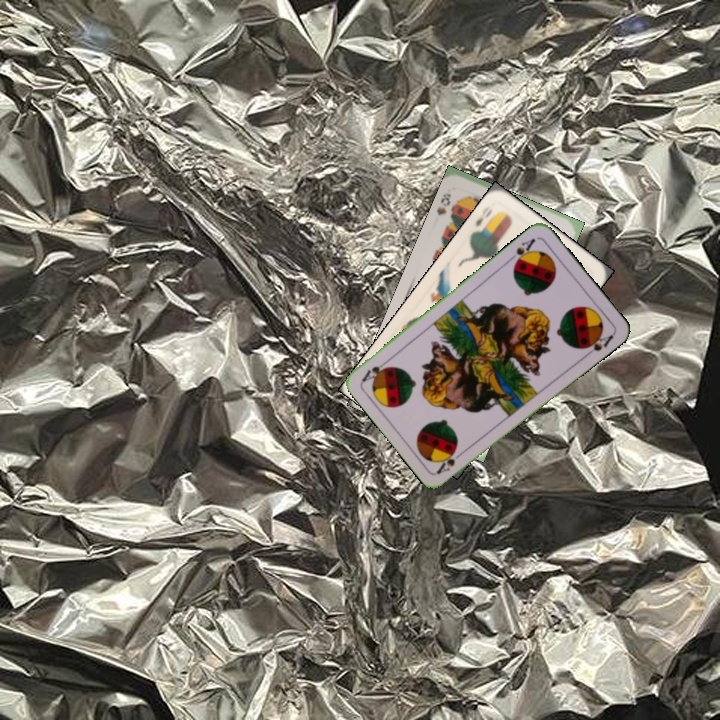EO: (469, 205, 501, 236)
S8: (432, 189, 453, 218)
SA: (433, 446, 468, 476), (510, 234, 538, 269)
